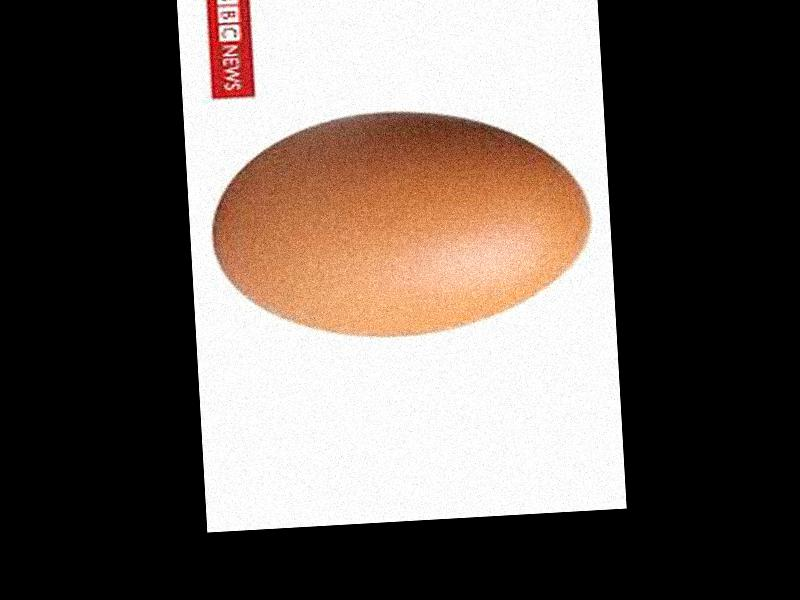Eggs: (208, 102, 593, 346)
